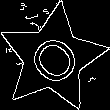O_SE: (19, 25, 86, 92)
